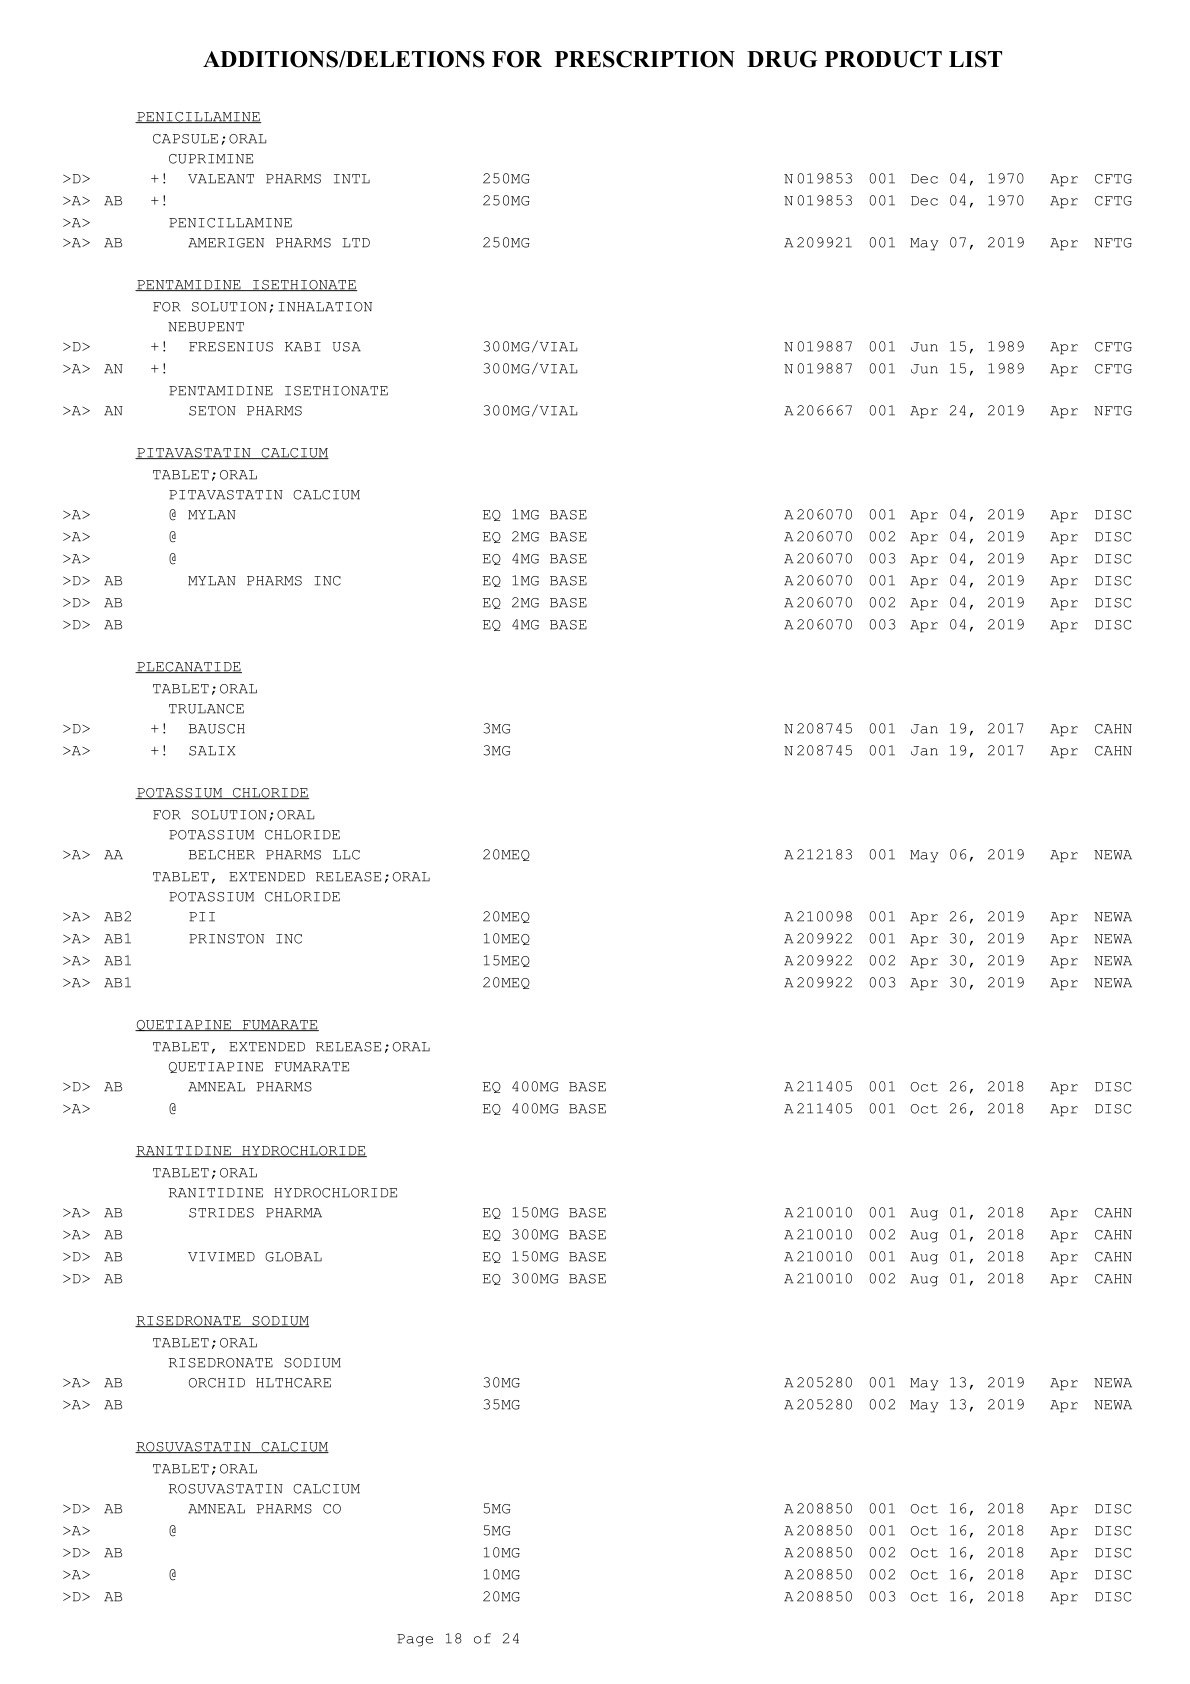nolines: (58, 107, 1138, 1608)
